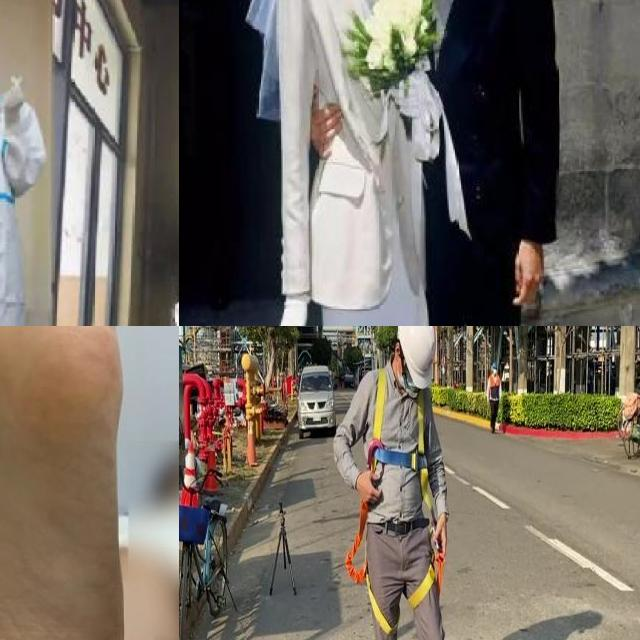Barefoots: (0, 326, 130, 640)
Harness: (345, 508, 446, 634), (368, 369, 431, 508)
hand_glove: (392, 68, 430, 122), (273, 286, 317, 326), (2, 75, 29, 129)
hand_noglove: (307, 86, 346, 160), (509, 237, 547, 308)
person: (382, 0, 599, 326), (247, 0, 447, 326), (0, 1, 69, 326)
